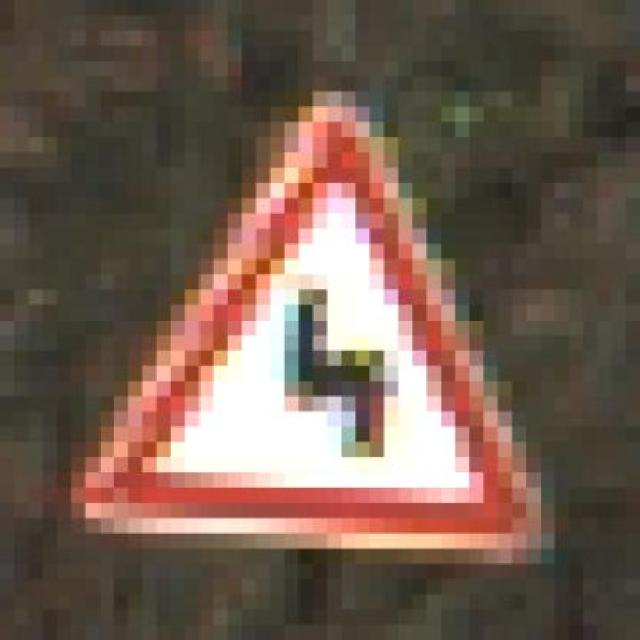Left Zig Zag Traffic: (28, 61, 569, 579)
